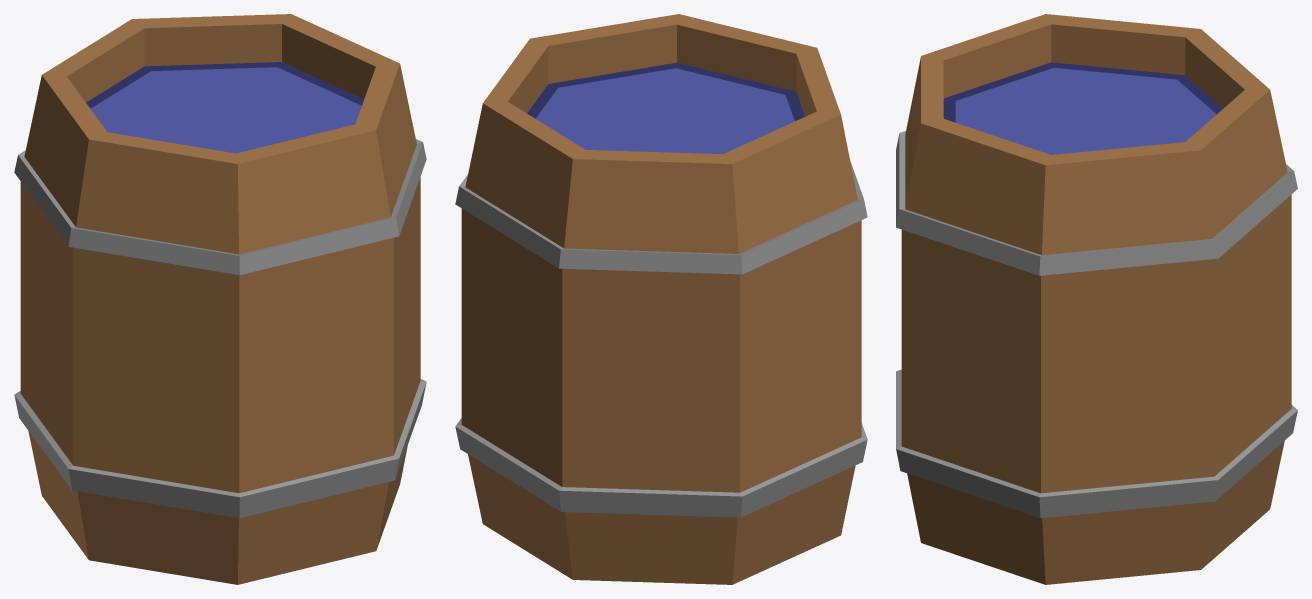
File: WesternBarrel_water.glb
The picture shows the model from 3 angles, left to right: view 1: azimuth 30°, elevation 25°; view 2: azimuth 150°, elevation 25°; view 3: azimuth 270°, elevation 25°; orthographic projection.
Parts seen in each view (by area): view 1: WesternBarrel_water2; view 2: WesternBarrel_water2; view 3: WesternBarrel_water2.
Part boxes in pixels (<box>): WesternBarrel_water2: <box>14,14,426,584</box>; WesternBarrel_water2: <box>455,14,867,584</box>; WesternBarrel_water2: <box>896,14,1297,584</box>.
Bounding box in the file's own units: 1.26 × 1.42 × 1.23.
3 materials, 3 textured.
